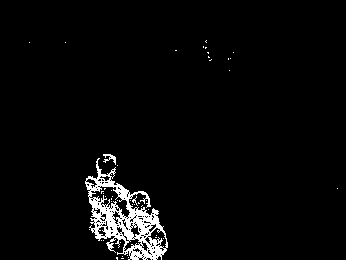person: (84, 151, 132, 260), (123, 189, 170, 260)
